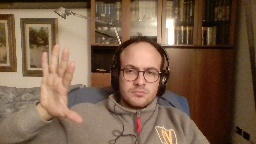Mano_aperta: (34, 41, 84, 125)
